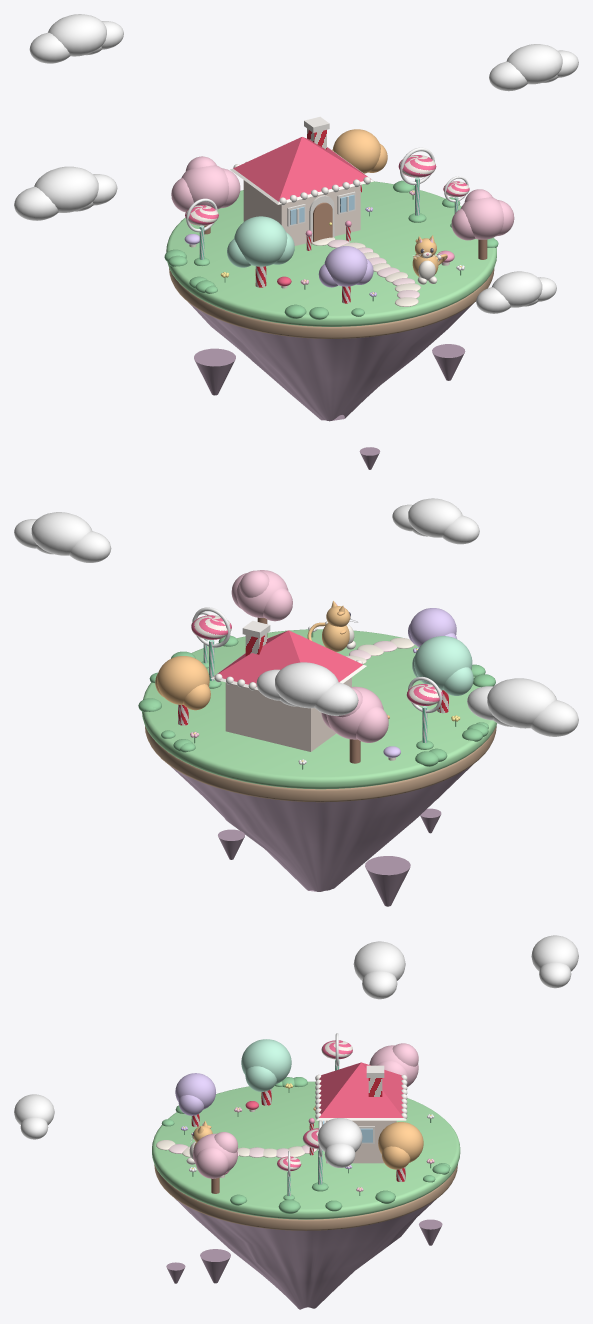
The model's file is mundo.glb.
The picture shows the model from 3 angles, top to bottom: view 1: azimuth 30°, elevation 25°; view 2: azimuth 150°, elevation 25°; view 3: azimuth 270°, elevation 25°; orthographic projection. The views are drawn at different scales.
Parts seen in each view (by area): view 1: isla_pasto, isla_roca, casa_techo, isla_tierra, casa_paredes, nube.002, arbol_copa.001, nube.014, nube.006, arbol_copa.002, arbol_nube.001, arbol_nube (+10 smaller); view 2: isla_pasto, isla_roca, isla_tierra, casa_paredes, casa_techo, nube.002, arbol_copa.001, nube.014, nube.006, arbol_copa.002, nube.010, roca_flotante_1 (+18 smaller); view 3: isla_pasto, isla_roca, casa_techo, isla_tierra, nube.002, arbol_copa.001, nube.014, arbol_copa.002, nube.006, arbol_copa, nube.010, casa_paredes (+10 smaller).
Part boxes in pixels (bbox=[...]): isla_pasto: bbox=[166, 181, 496, 326]; isla_roca: bbox=[188, 302, 472, 421]; casa_techo: bbox=[233, 137, 370, 201]; isla_tierra: bbox=[169, 268, 494, 338]; casa_paredes: bbox=[243, 180, 360, 245]; nube.002: bbox=[34, 166, 98, 212]; arbol_copa.001: bbox=[234, 216, 287, 266]; nube.014: bbox=[48, 14, 106, 56]; nube.006: bbox=[506, 44, 562, 84]; arbol_copa.002: bbox=[333, 129, 380, 173]; arbol_nube.001: bbox=[181, 165, 228, 209]; arbol_nube: bbox=[460, 197, 503, 239]; isla_pasto: bbox=[142, 629, 496, 789]; isla_roca: bbox=[170, 765, 472, 891]; isla_tierra: bbox=[145, 726, 496, 802]; casa_paredes: bbox=[225, 677, 351, 751]; casa_techo: bbox=[214, 630, 362, 686]; nube.002: bbox=[487, 678, 556, 728]; arbol_copa.001: bbox=[414, 636, 472, 690]; nube.014: bbox=[275, 662, 338, 708]; nube.006: bbox=[31, 512, 92, 555]; arbol_copa.002: bbox=[157, 656, 209, 704]; nube.010: bbox=[408, 498, 462, 537]; roca_flotante_1: bbox=[365, 856, 410, 906]; isla_pasto: bbox=[152, 1081, 460, 1219]; isla_roca: bbox=[175, 1199, 436, 1309]; casa_techo: bbox=[319, 1062, 403, 1117]; isla_tierra: bbox=[154, 1164, 457, 1230]; nube.002: bbox=[353, 941, 405, 980]; arbol_copa.001: bbox=[241, 1039, 291, 1084]; nube.014: bbox=[531, 935, 578, 971]; arbol_copa.002: bbox=[378, 1122, 423, 1162]; nube.006: bbox=[317, 1118, 362, 1151]; arbol_copa: bbox=[175, 1073, 215, 1109]; nube.010: bbox=[14, 1094, 54, 1124]; casa_paredes: bbox=[326, 1120, 396, 1163].
Bounding box in the file's own units: 20.51 × 12.1 × 19.96.
26 materials, 3 textured.
